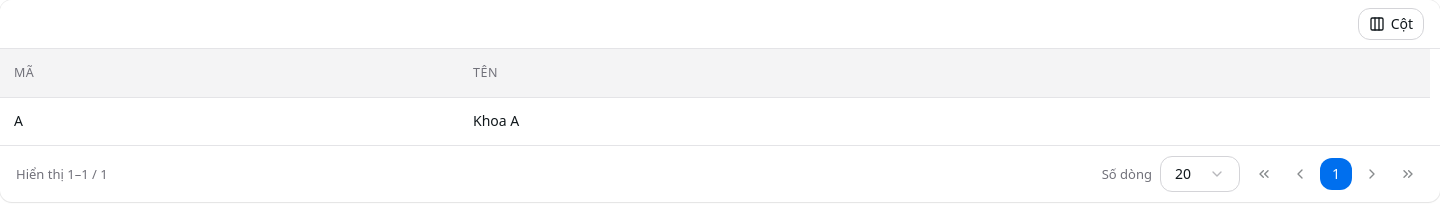
Test: labels columns from header when meta.label is missing and omits non-hideable columns
This screenshot has width=1440, height=220.
Click the button "Cột": [1391, 24] box [1358, 8, 1424, 40]
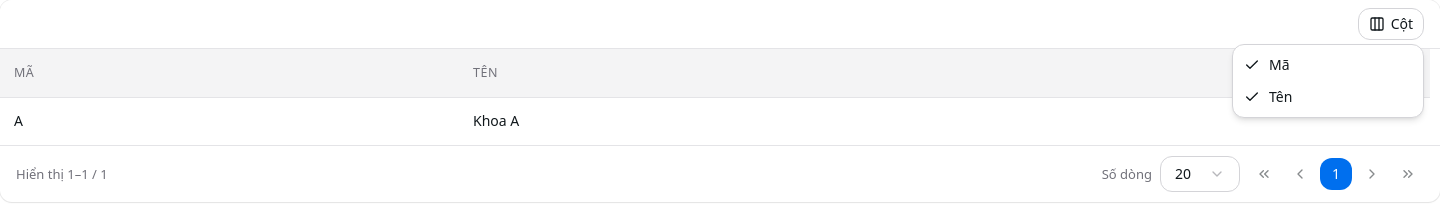
Expected: the menu item "Mã" is shown, [1244, 55, 1290, 74]
Expected: the menu item "Tên" is shown, [1244, 87, 1292, 106]
